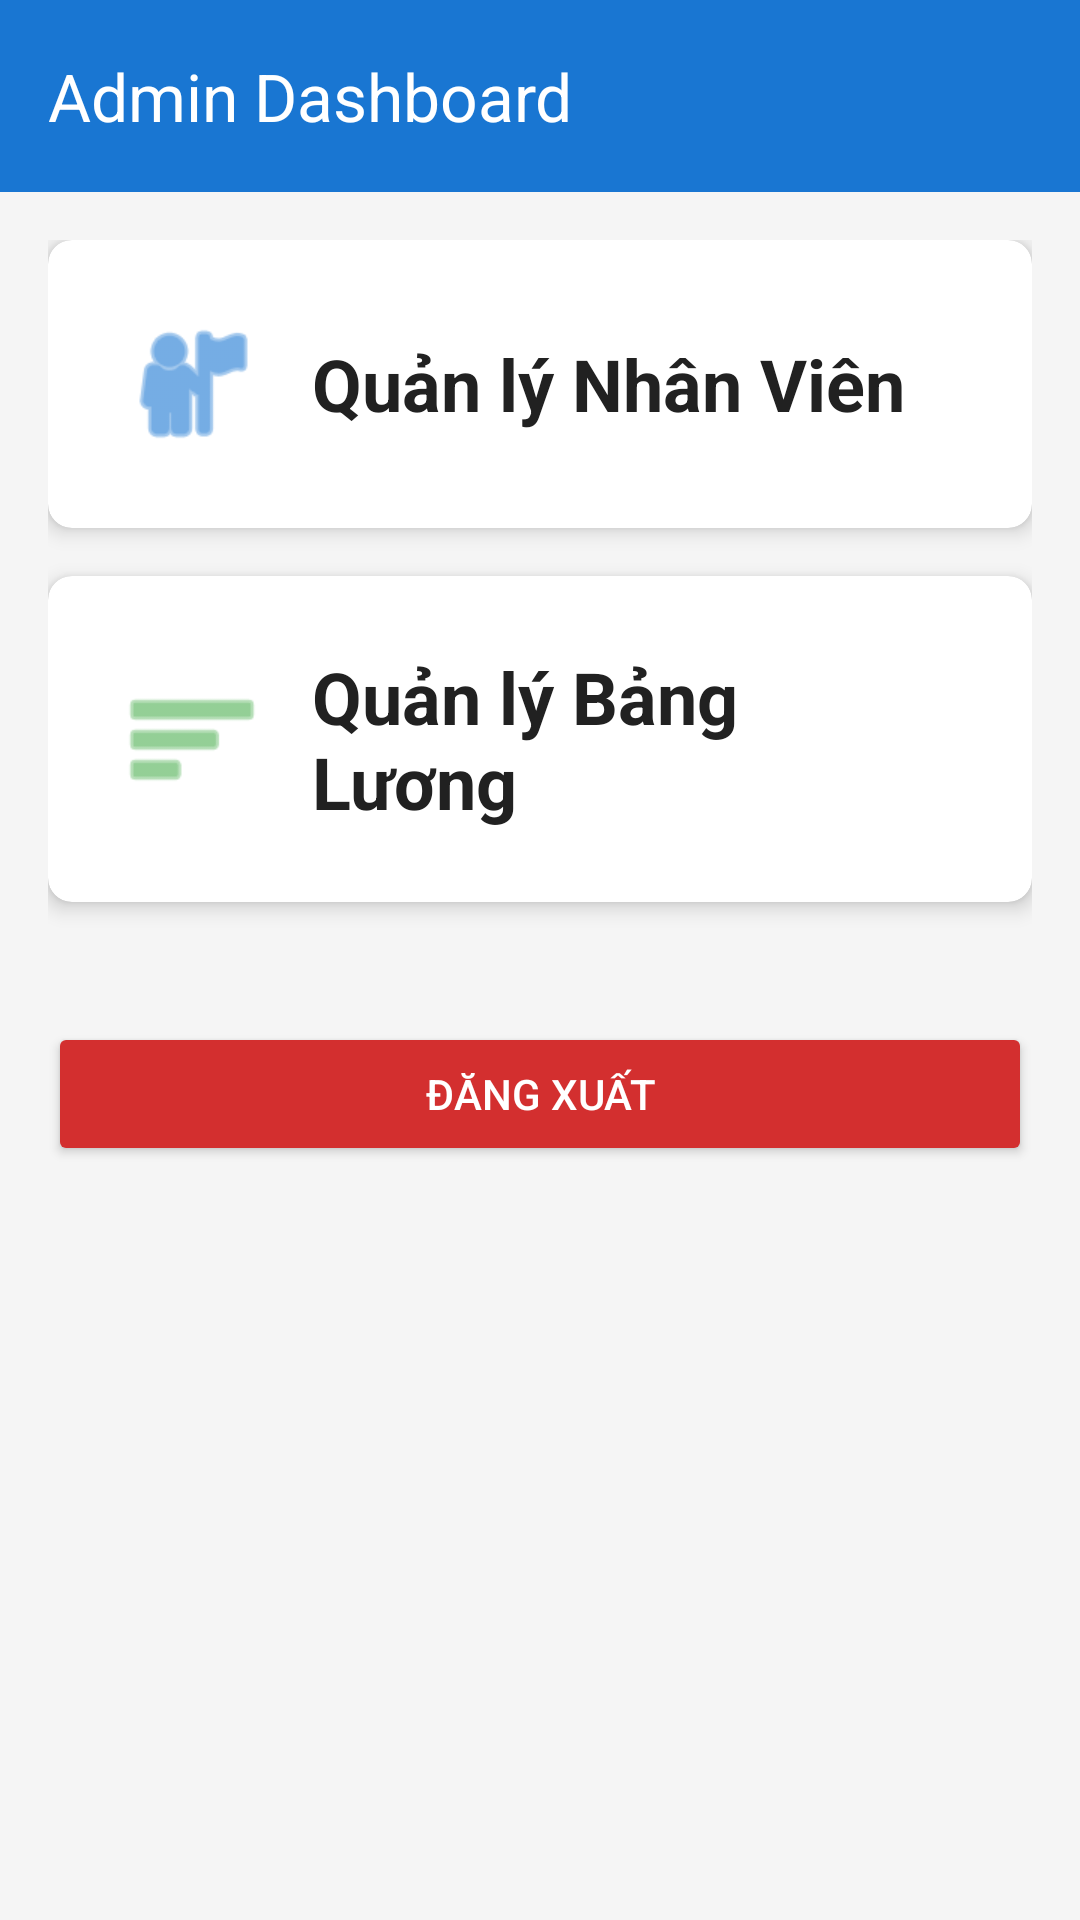

Named icons in this screenshot (1080 × 1920) and their bounding boxes, [x1, y1, x2, y2]:
Manage Employees: [139, 330, 248, 438]
